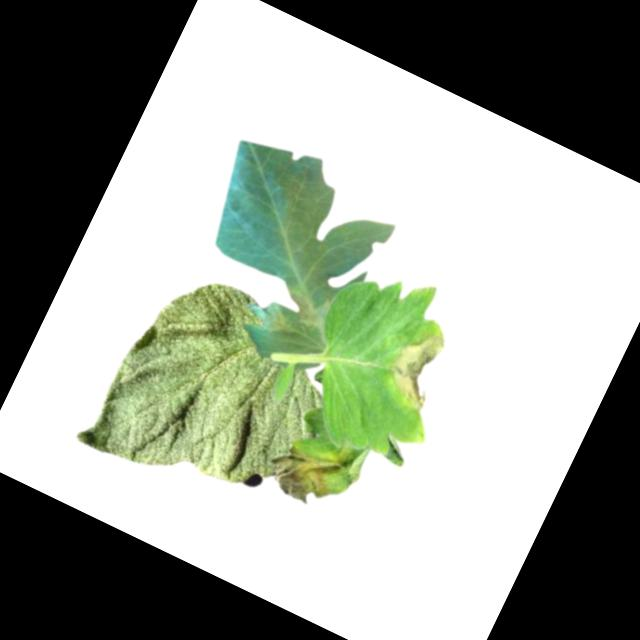Late_blight: (378, 321, 458, 412), (266, 436, 347, 514), (276, 283, 334, 335)
